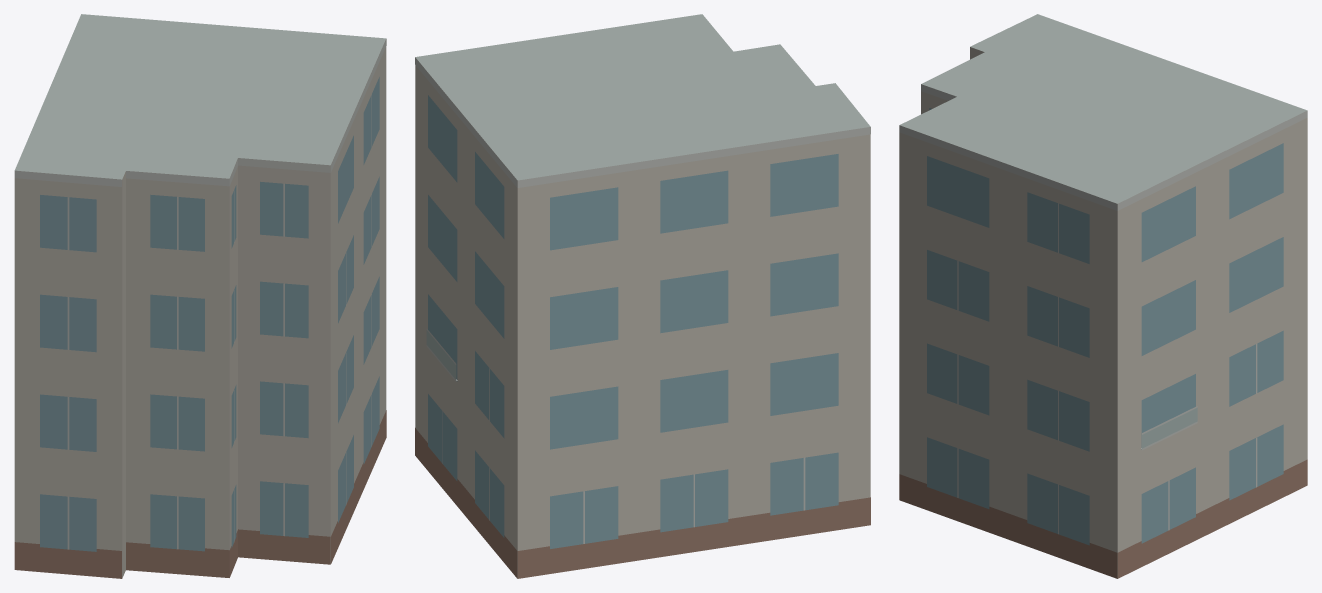
The model's file is survey-upis-32528821.glb.
3 renders of one model, left to right at view 1: azimuth 30°, elevation 25°; view 2: azimuth 150°, elevation 25°; view 3: azimuth 270°, elevation 25°, orthographic. The views are drawn at different scales.
Parts seen in each view (by area): view 1: survey-upis-32528821.tmp; view 2: survey-upis-32528821.tmp; view 3: survey-upis-32528821.tmp.
Boxes of the visible parts, left/top/right/bottom form: survey-upis-32528821.tmp: left=14, top=14, right=386, bottom=578; survey-upis-32528821.tmp: left=415, top=14, right=870, bottom=578; survey-upis-32528821.tmp: left=899, top=14, right=1307, bottom=578.
Size of the model in its own units: 13.9 by 12.8 by 12.64.
